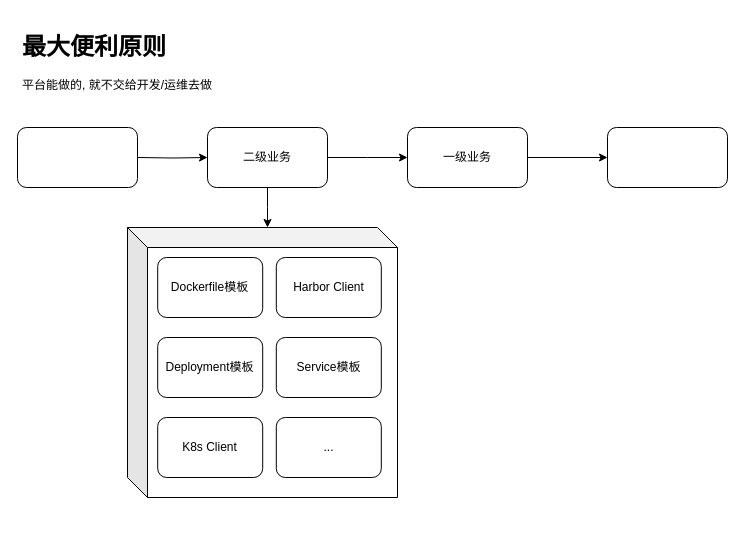
The diagram is 745 pixels wide and 544 high, and some of its shapes have lost their labels. Here are the shapes that lost their labels. From the top down, the box of each, then its label:
(16, 126, 138, 188): 项目配置
(606, 126, 728, 188): 系统默认
